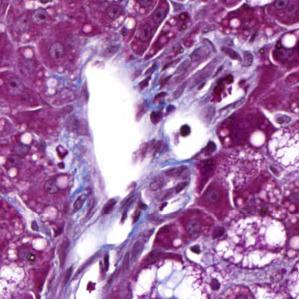ballooning: (213, 212, 289, 271), (266, 121, 296, 170)
